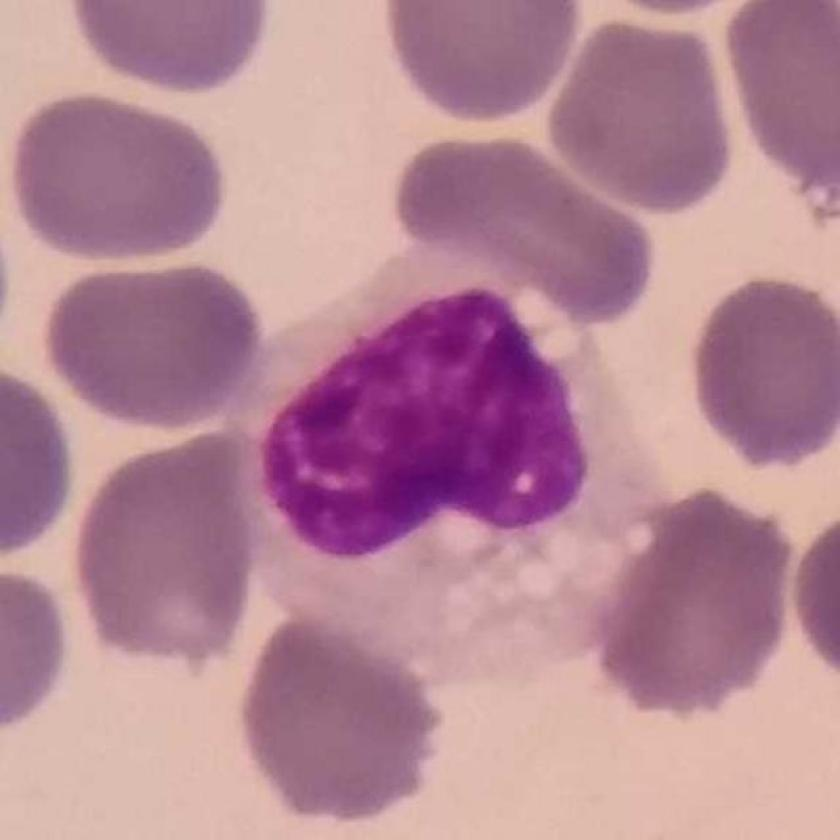monocyte: (226, 237, 671, 701)
